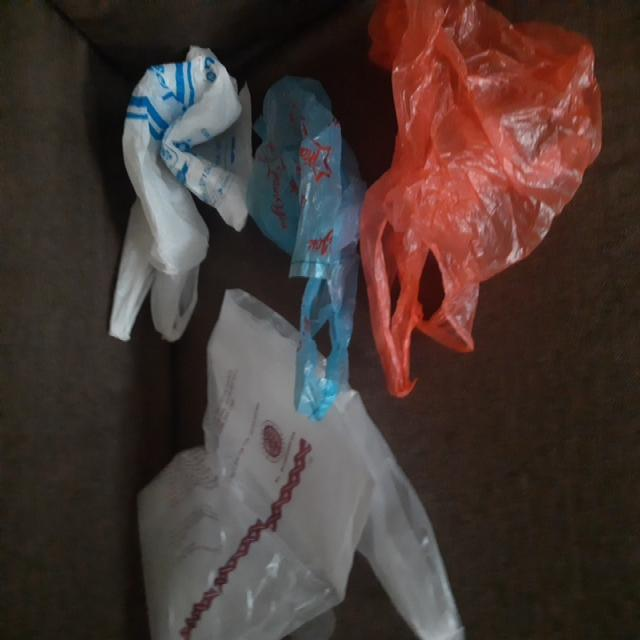Single-layer Plastic: (139, 291, 464, 640), (361, 0, 601, 396), (110, 46, 250, 340), (248, 76, 365, 419)
